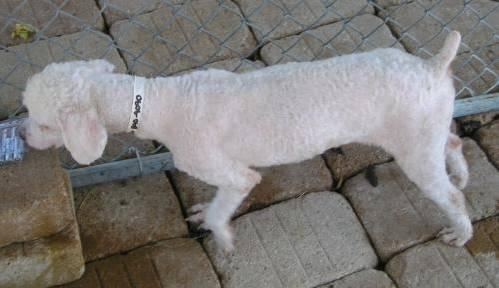dog: (22, 31, 472, 250)
